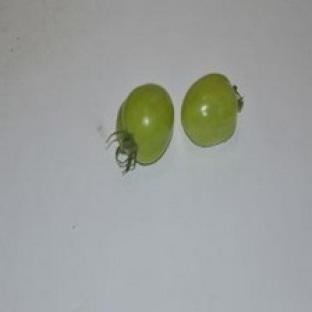Tomato: (111, 84, 174, 172), (182, 73, 242, 146)
